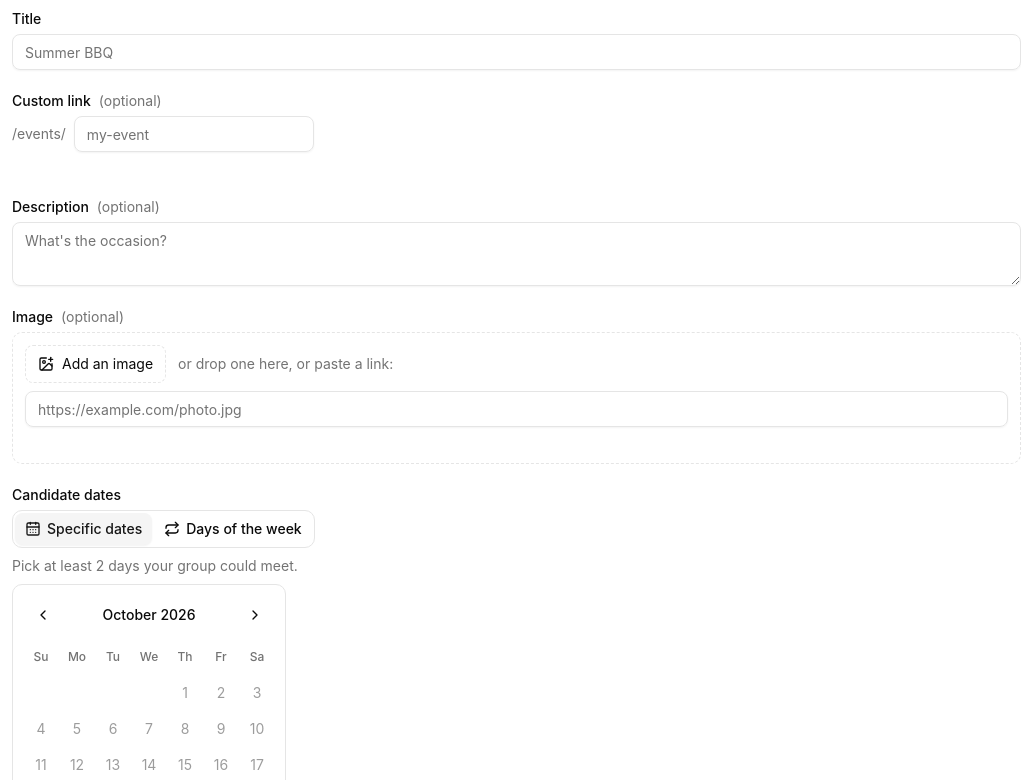
it: EventForm event type › requires at least 2 days of the week
In the field labelled "Title": (516, 52) [12,34,1021,70], type "Game night"
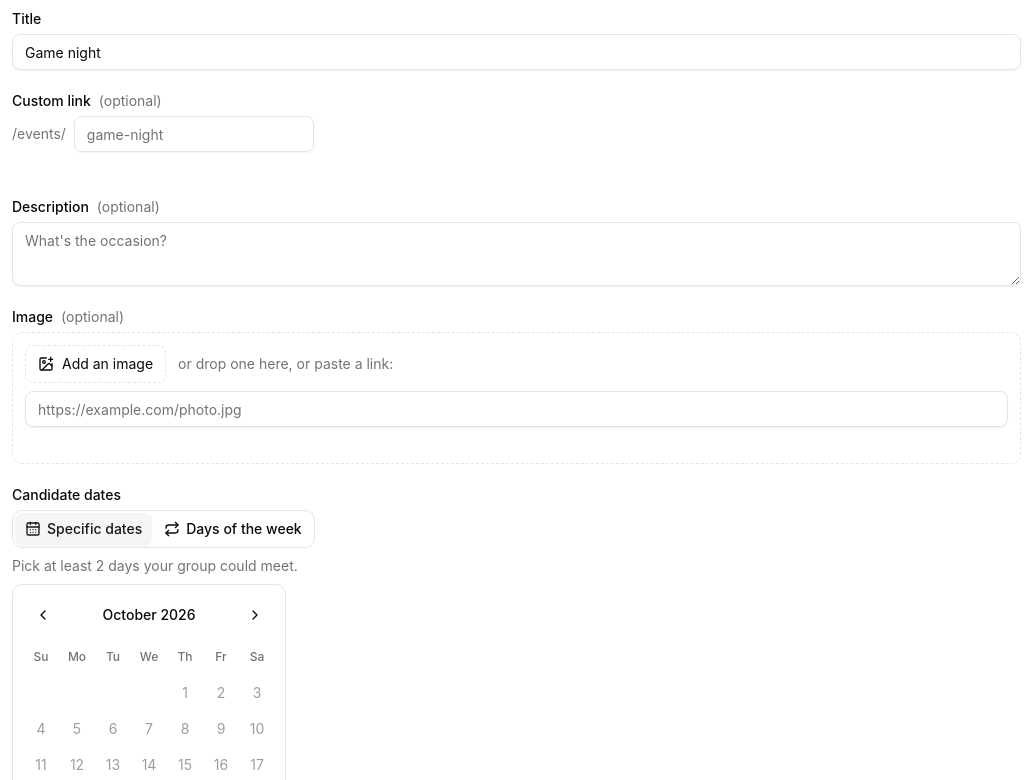
Click the button "Days of the week": (233, 529) [154,513,312,545]
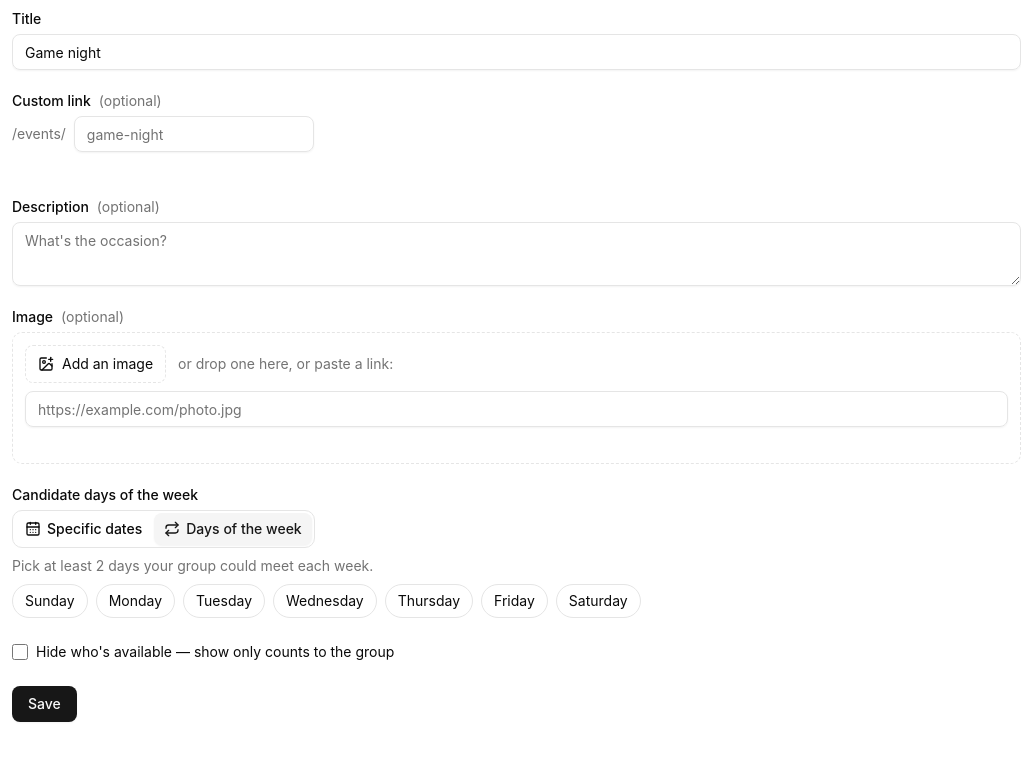
Click the button "Friday": (514, 601) [481,584,548,618]
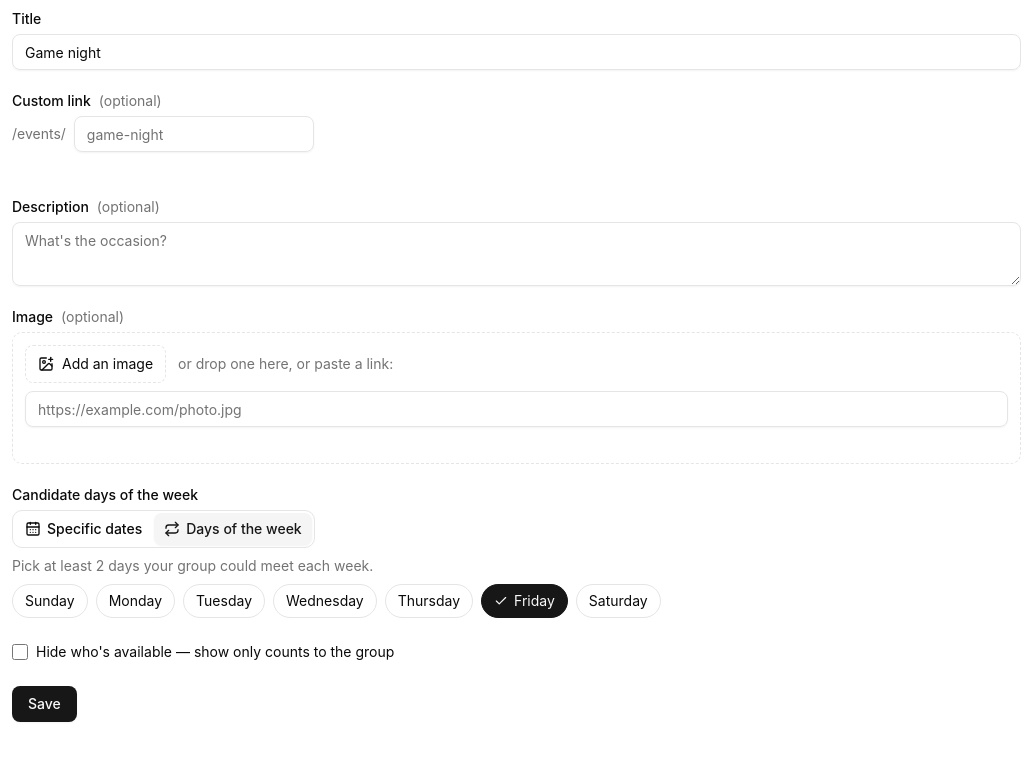
Click the button "Save": (44, 704) [12,686,77,722]
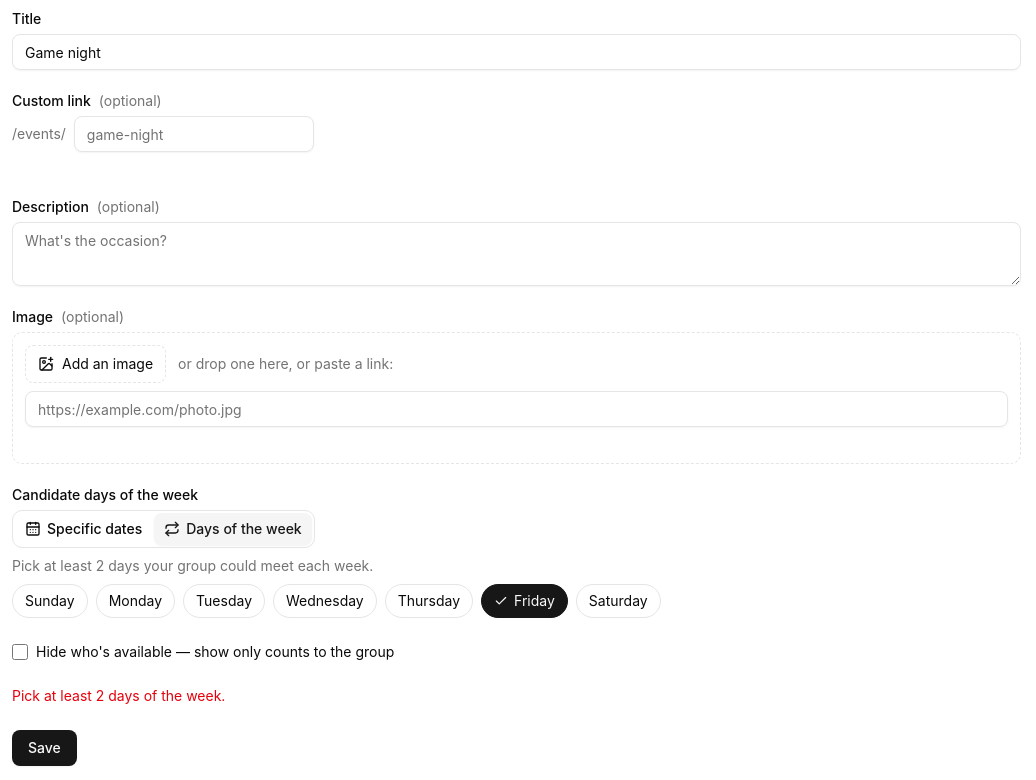
Check: the text "Pick at least 2 days of the week." is shown, box [12,687,225,704]
